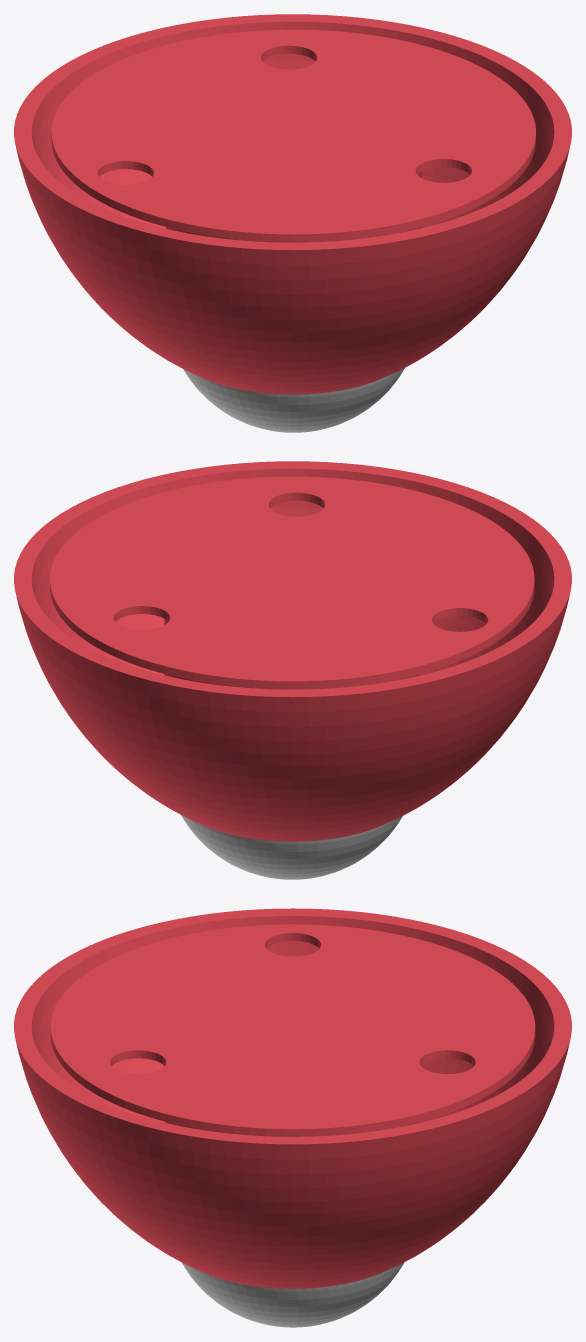
File: front_castor_1.dae
The picture shows the model from 3 angles, top to bottom: view 1: azimuth 30°, elevation 25°; view 2: azimuth 150°, elevation 25°; view 3: azimuth 270°, elevation 25°; orthographic projection.
Parts seen in each view (by area): view 1: front_castor_1; view 2: front_castor_1; view 3: front_castor_1.
Part boxes in pixels (<box>): front_castor_1: <box>14,14,571,432</box>; front_castor_1: <box>14,461,571,879</box>; front_castor_1: <box>14,908,571,1327</box>.
Bounding box in the file's own units: 31.68 × 31.66 × 18.06.
